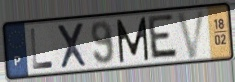9: (89, 19, 116, 66)
E: (147, 13, 180, 61)
L: (28, 27, 56, 71)
M: (115, 15, 151, 65)
V: (175, 8, 209, 61)
X: (55, 21, 89, 71)
